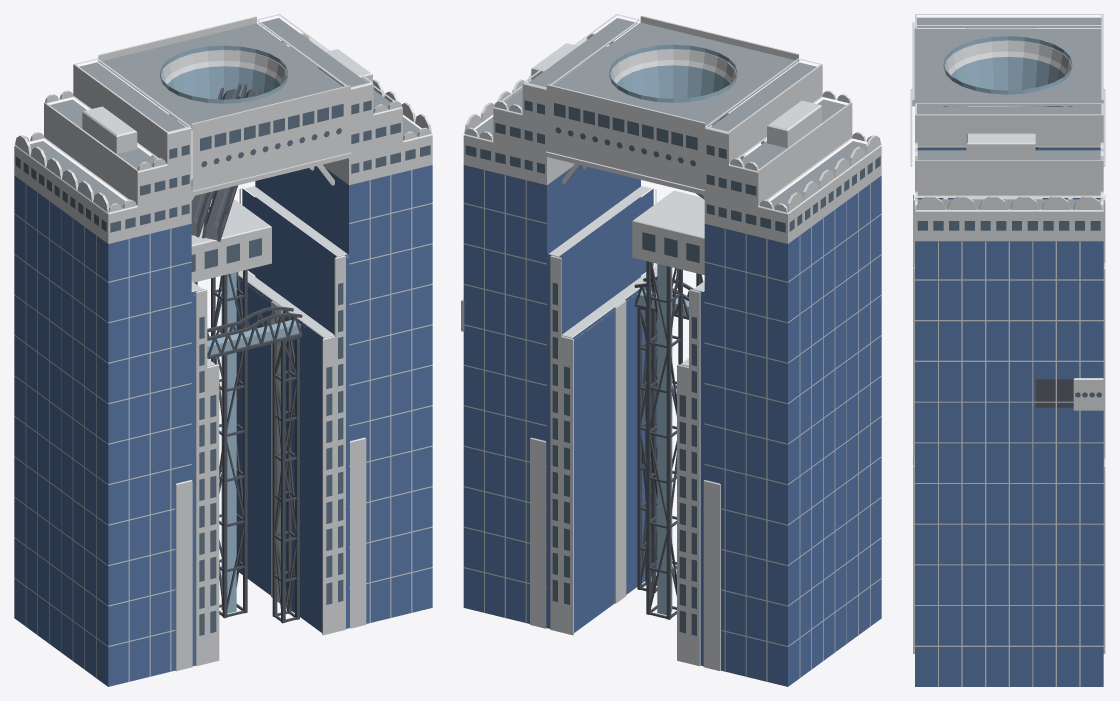
File: osaka-umeda-sky-building.glb
3 renders of one model, left to right at view 1: azimuth 30°, elevation 25°; view 2: azimuth 150°, elevation 25°; view 3: azimuth 270°, elevation 25°, orthographic.
Parts seen in each view (by area): view 1: Umeda Sky Building; view 2: Umeda Sky Building; view 3: Umeda Sky Building.
Boxes of the visible parts, x1,y1,x2,y2 form: Umeda Sky Building: [14, 14, 432, 686]; Umeda Sky Building: [461, 14, 881, 686]; Umeda Sky Building: [910, 14, 1105, 686].
Bounding box in the file's own units: 110 × 174 × 56.4.
